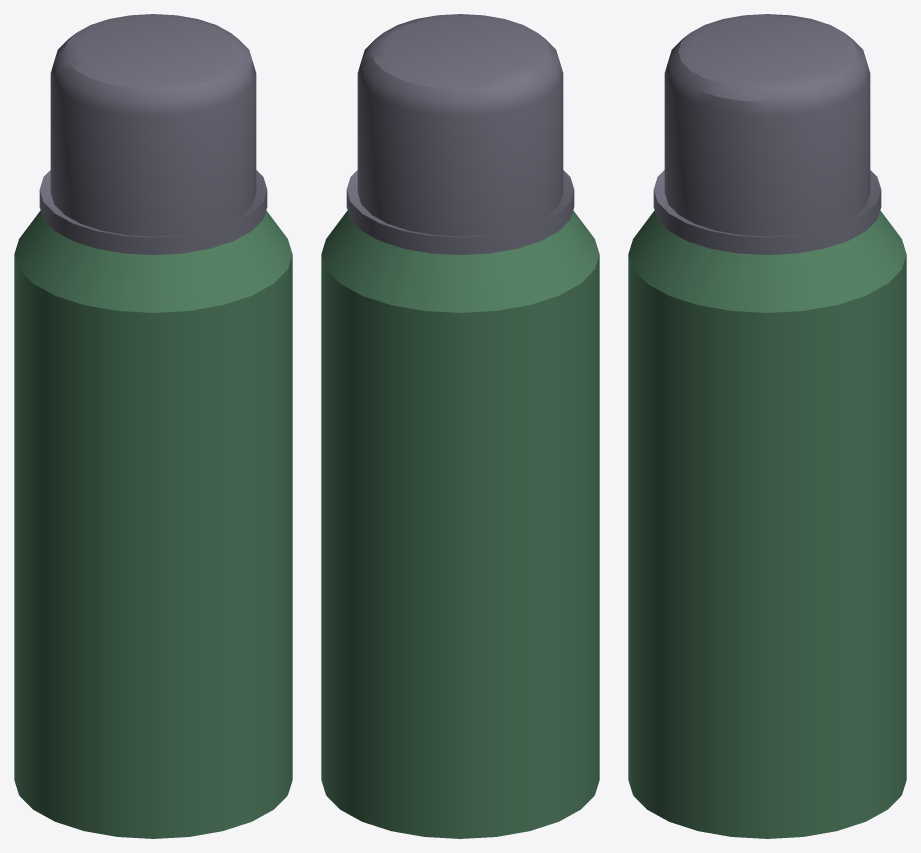
File: termo.fbx
The picture shows the model from 3 angles, left to right: view 1: azimuth 30°, elevation 25°; view 2: azimuth 150°, elevation 25°; view 3: azimuth 270°, elevation 25°; orthographic projection.
Visible parts, largest first — view 1: termo; view 2: termo; view 3: termo.
Boxes of the visible parts, <box> form: termo: <box>14,14,292,838</box>; termo: <box>321,14,599,838</box>; termo: <box>628,14,906,838</box>.
Size of the model in its own units: 39.26 by 114 by 39.26.
